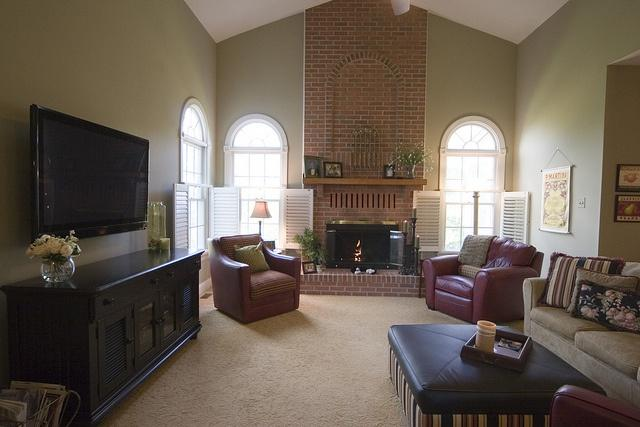AIO PC-Monitor-TV: (28, 102, 149, 244)
